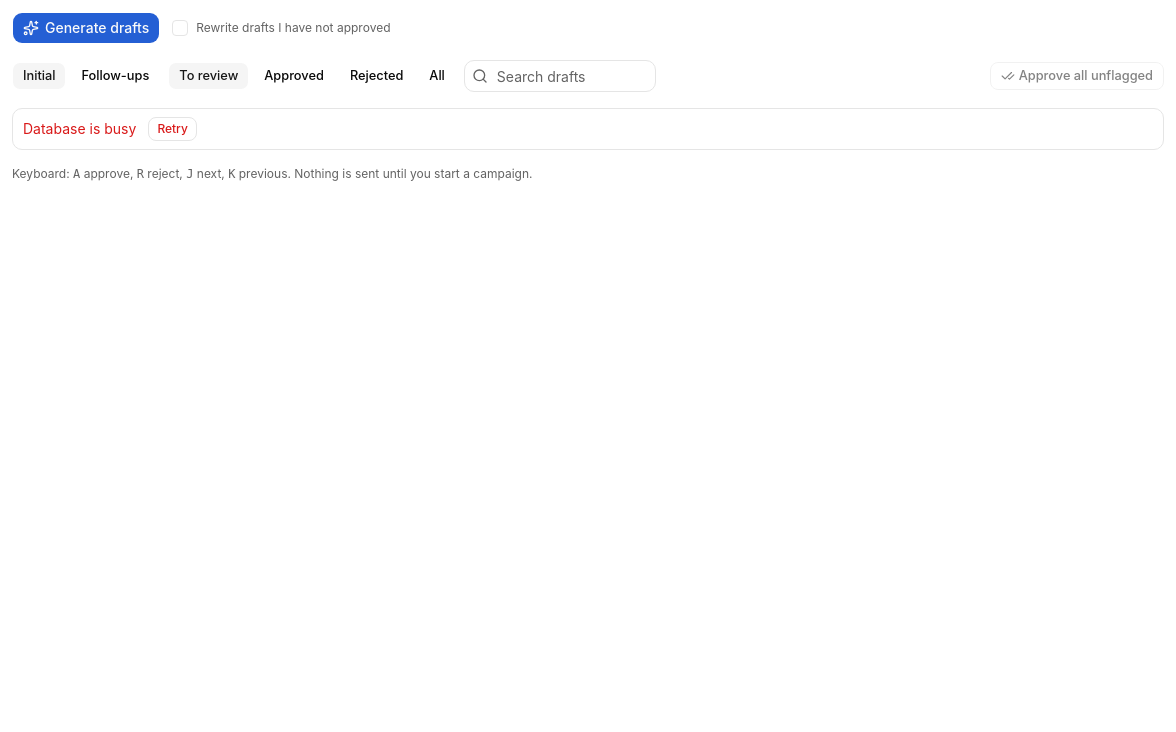
Test: DraftsPanel › shows a load error with Retry
expect the message shows "Database is busy": met, box [23,120,136,137]
Click the button "Retry" at coordinates (173, 129), box [148,117,197,141]
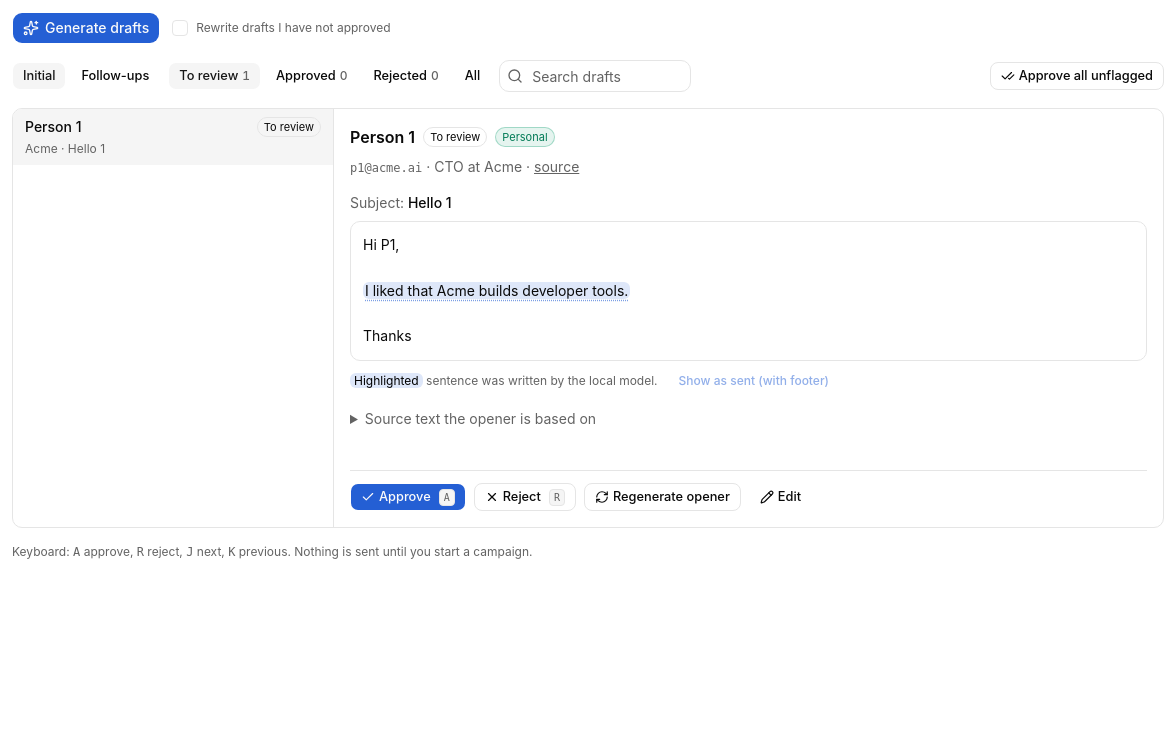
expect the number of buttons with test id "draft-row" is 1: met, box [13,109,333,165]
